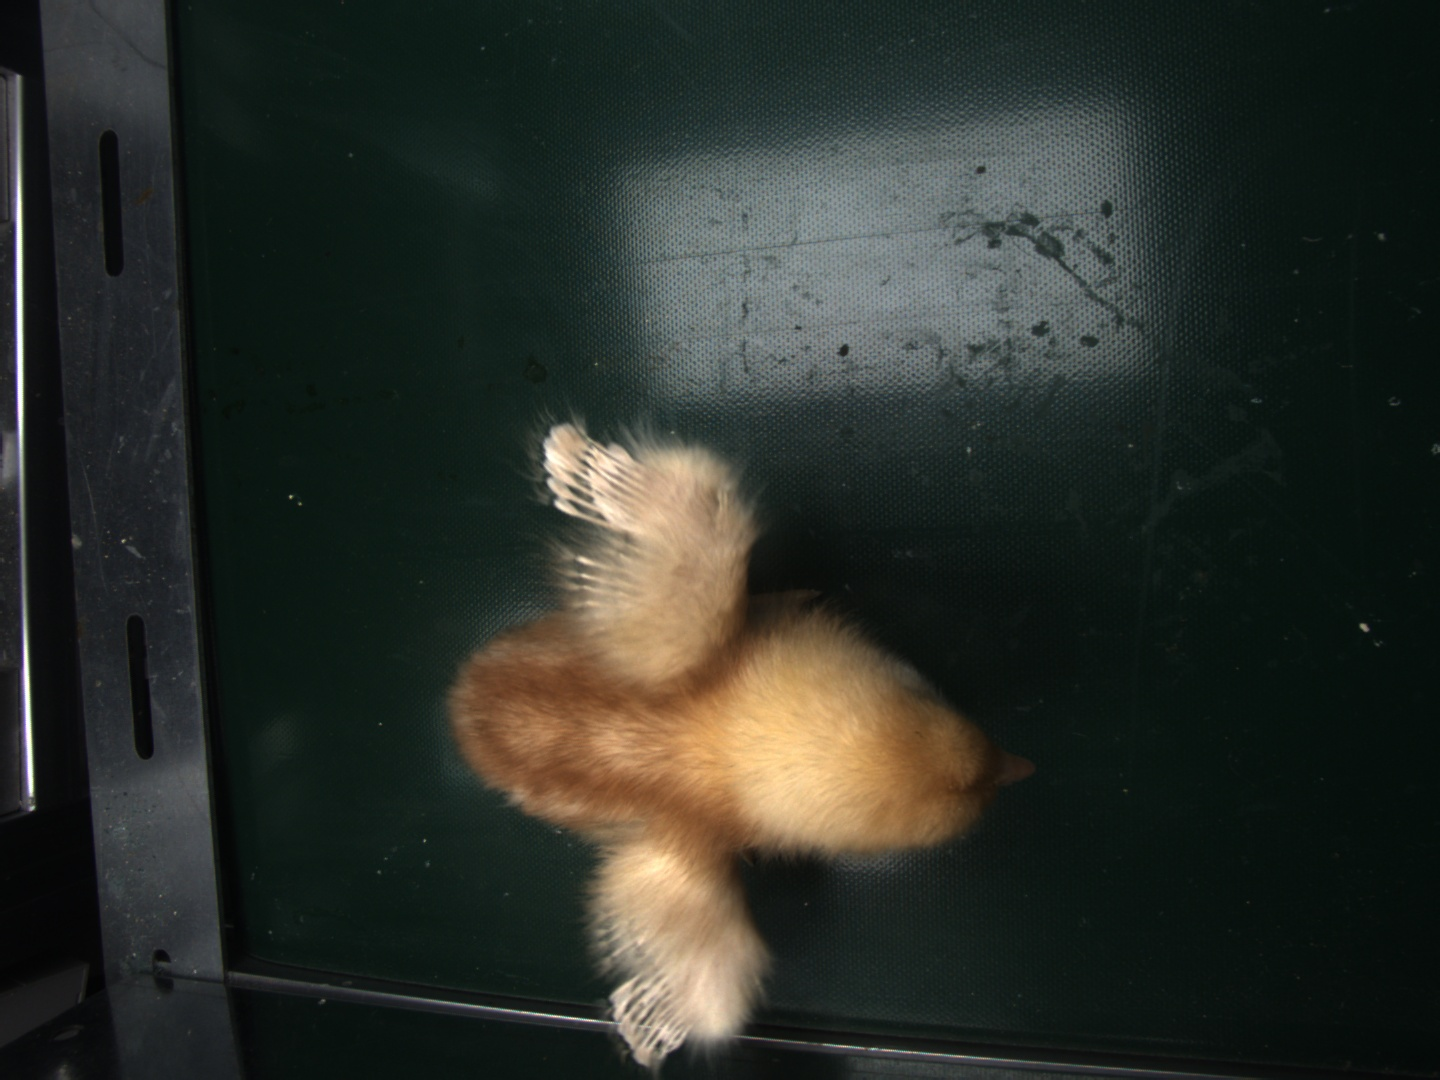female: (543, 422, 647, 533)
